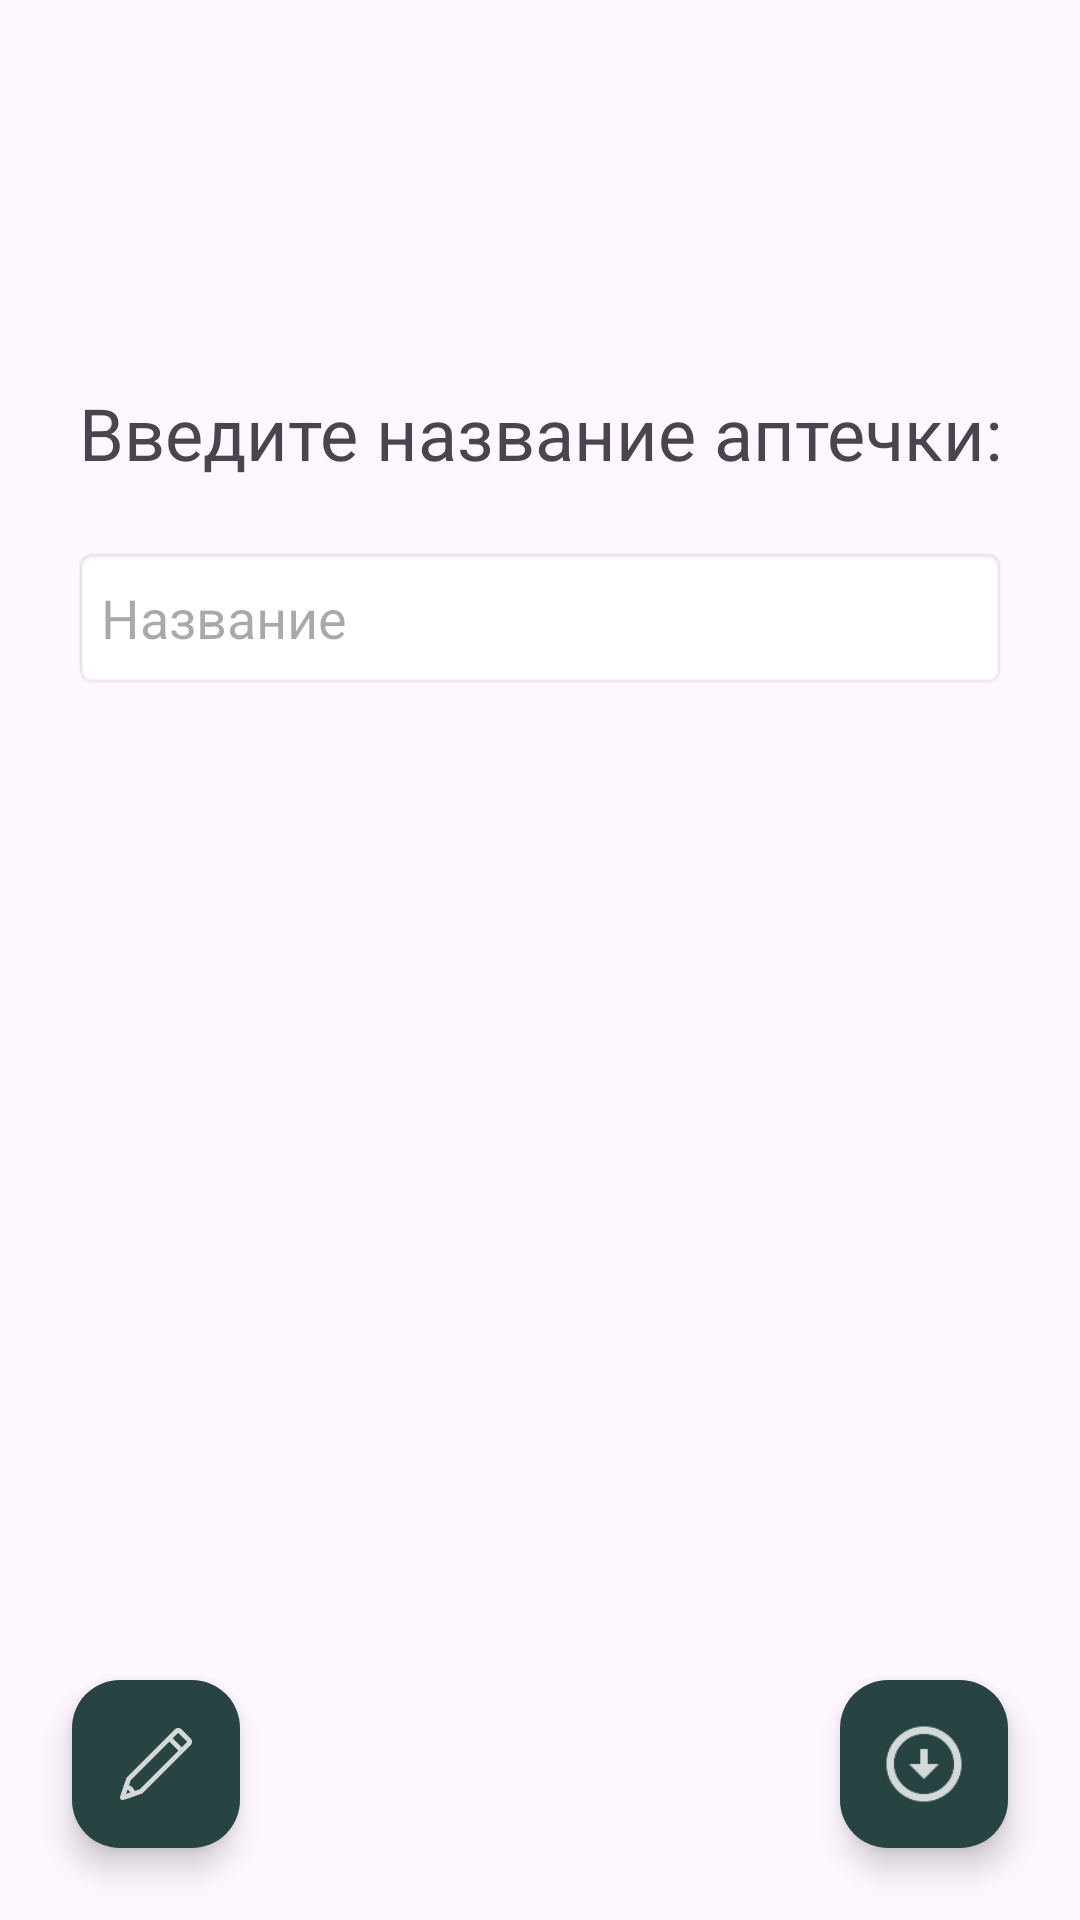

Icon bounding boxes for this 1080×1920 phone screenshot, format detection(x1, y1, x2, y2):
edit: detection(72, 1680, 240, 1848)
save: detection(840, 1680, 1008, 1848)
